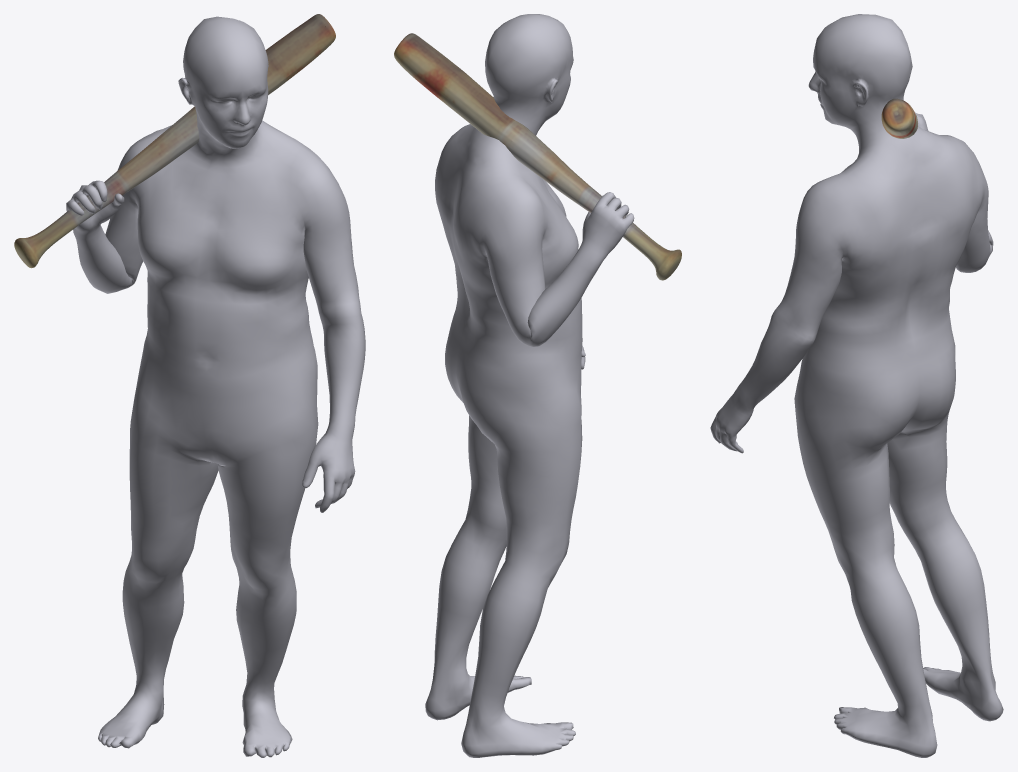
The model's file is baseball_bat.glb.
3 views of the same model, side by side, from view 1: azimuth 30°, elevation 25°; view 2: azimuth 150°, elevation 25°; view 3: azimuth 270°, elevation 25° (orthographic). The views are drawn at different scales.
Visible parts, largest first — view 1: human, world; view 2: human, world; view 3: human, world.
Part boxes in pixels (bbox=[...]): human: bbox=[66, 16, 365, 757]; world: bbox=[14, 14, 335, 268]; human: bbox=[425, 14, 634, 757]; world: bbox=[394, 33, 681, 280]; human: bbox=[710, 14, 1003, 757]; world: bbox=[881, 98, 917, 138].
Size of the model in its own units: 0.7007 by 1.62 by 0.6063.
